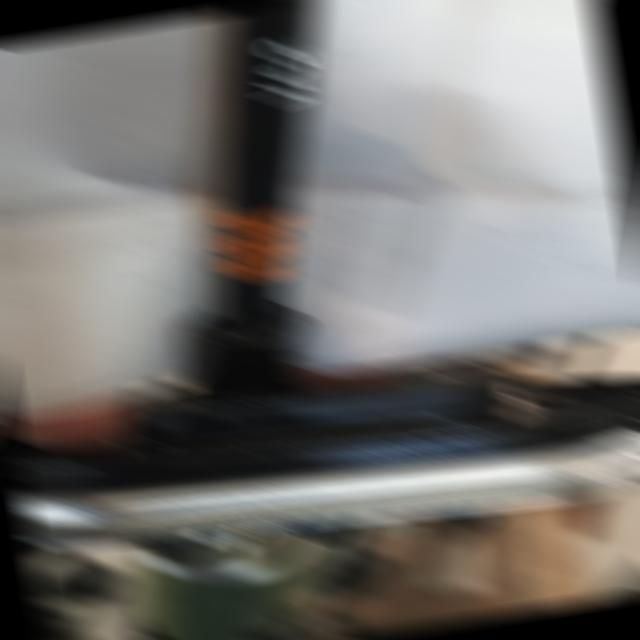orange: (211, 205, 300, 282)
